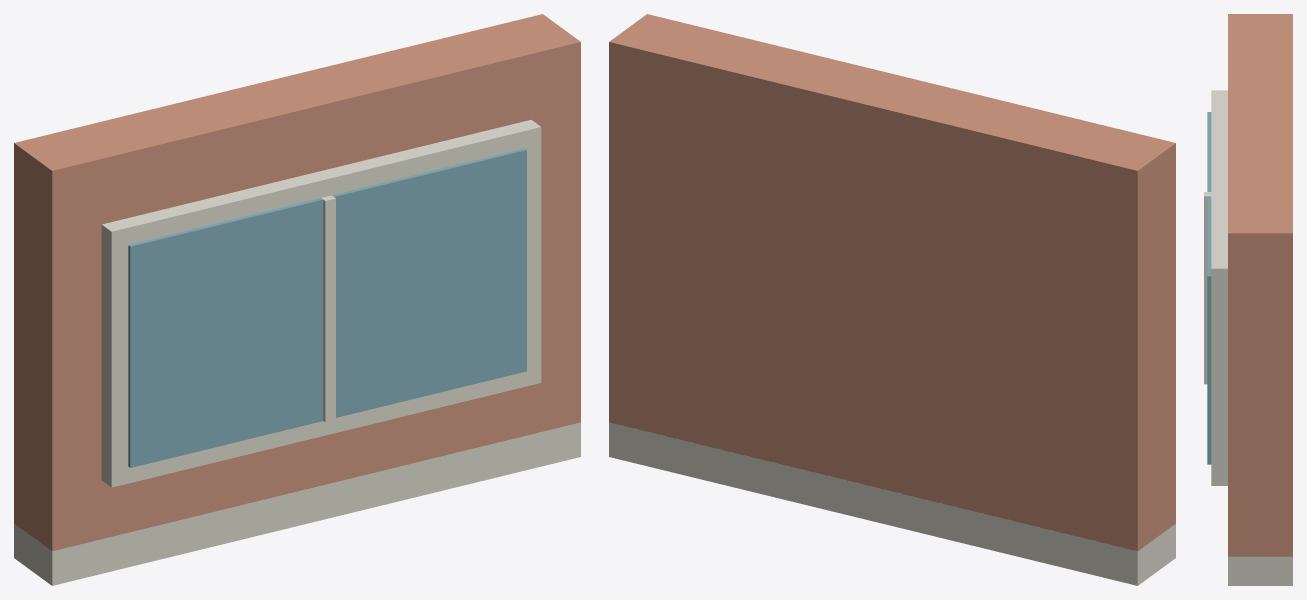
File: voxel-city-districts-picture-window-bay-f2fa0fda__24799.glb
The picture shows the model from 3 angles, left to right: view 1: azimuth 30°, elevation 25°; view 2: azimuth 150°, elevation 25°; view 3: azimuth 270°, elevation 25°; orthographic projection. The views are drawn at different scales.
Visible parts, largest first — view 1: picture-window-bay-brick, picture-window-bay-glass, picture-window-bay-concrete; view 2: picture-window-bay-brick, picture-window-bay-concrete; view 3: picture-window-bay-brick, picture-window-bay-concrete, picture-window-bay-glass.
Boxes of the visible parts, left/top/right/bottom form: picture-window-bay-brick: left=14, top=14, right=580, bottom=551; picture-window-bay-glass: left=128, top=148, right=526, bottom=467; picture-window-bay-concrete: left=14, top=119, right=580, bottom=585; picture-window-bay-brick: left=609, top=14, right=1175, bottom=551; picture-window-bay-concrete: left=609, top=422, right=1175, bottom=585; picture-window-bay-brick: left=1228, top=14, right=1292, bottom=556; picture-window-bay-concrete: left=1204, top=90, right=1292, bottom=585; picture-window-bay-glass: left=1207, top=112, right=1211, bottom=464.
Size of the model in its own units: 4 by 3 by 0.6851.
